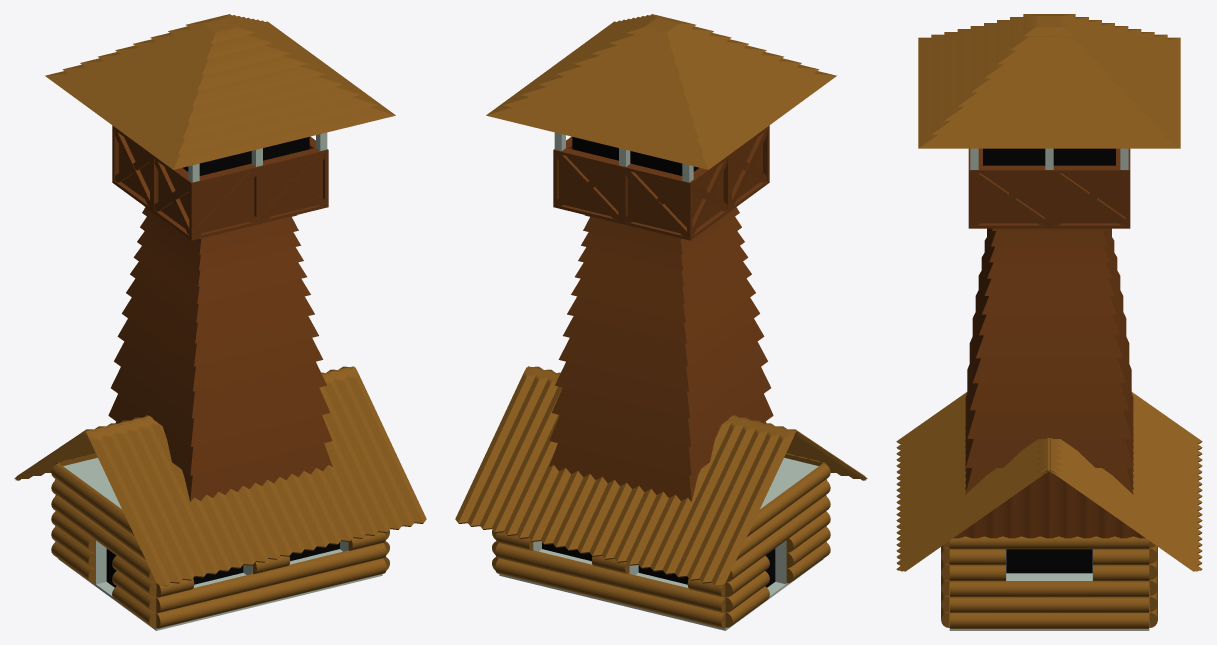
Rendered from BogenschützenTurm.fbx.
3 views of the same model, side by side, from view 1: azimuth 30°, elevation 25°; view 2: azimuth 150°, elevation 25°; view 3: azimuth 270°, elevation 25° (orthographic). The views are drawn at different scales.
Parts seen in each view (by area): view 1: Cube; view 2: Cube; view 3: Cube.
Boxes of the visible parts, x1,y1,x2,y2 form: Cube: (14,14,426,630); Cube: (455,14,867,630); Cube: (896,14,1202,630).
Bounding box in the file's own units: 474 × 916 × 460.
